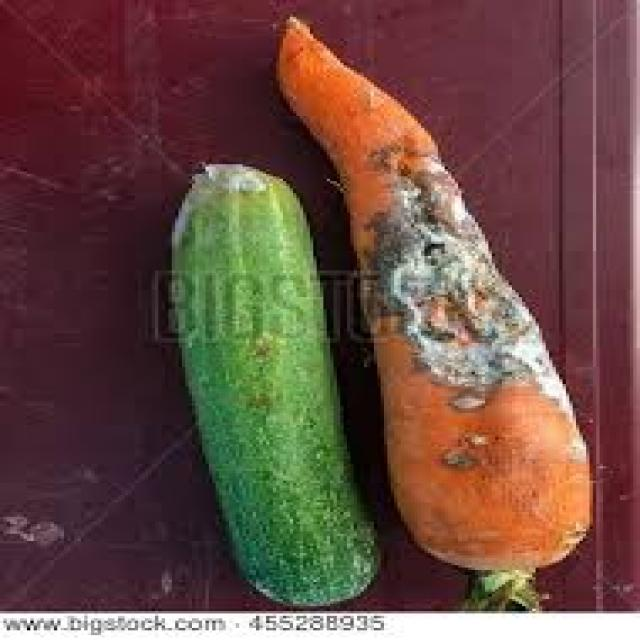Stale_Carrot: (280, 14, 587, 583)
